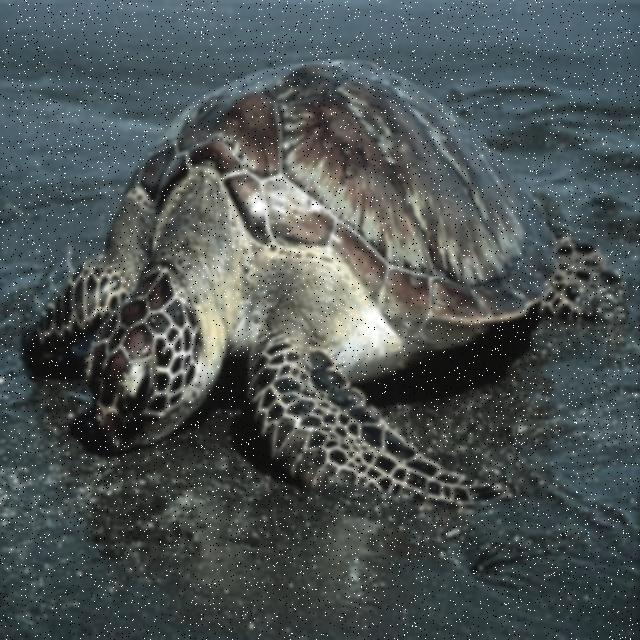tortoise: (16, 56, 638, 534)
